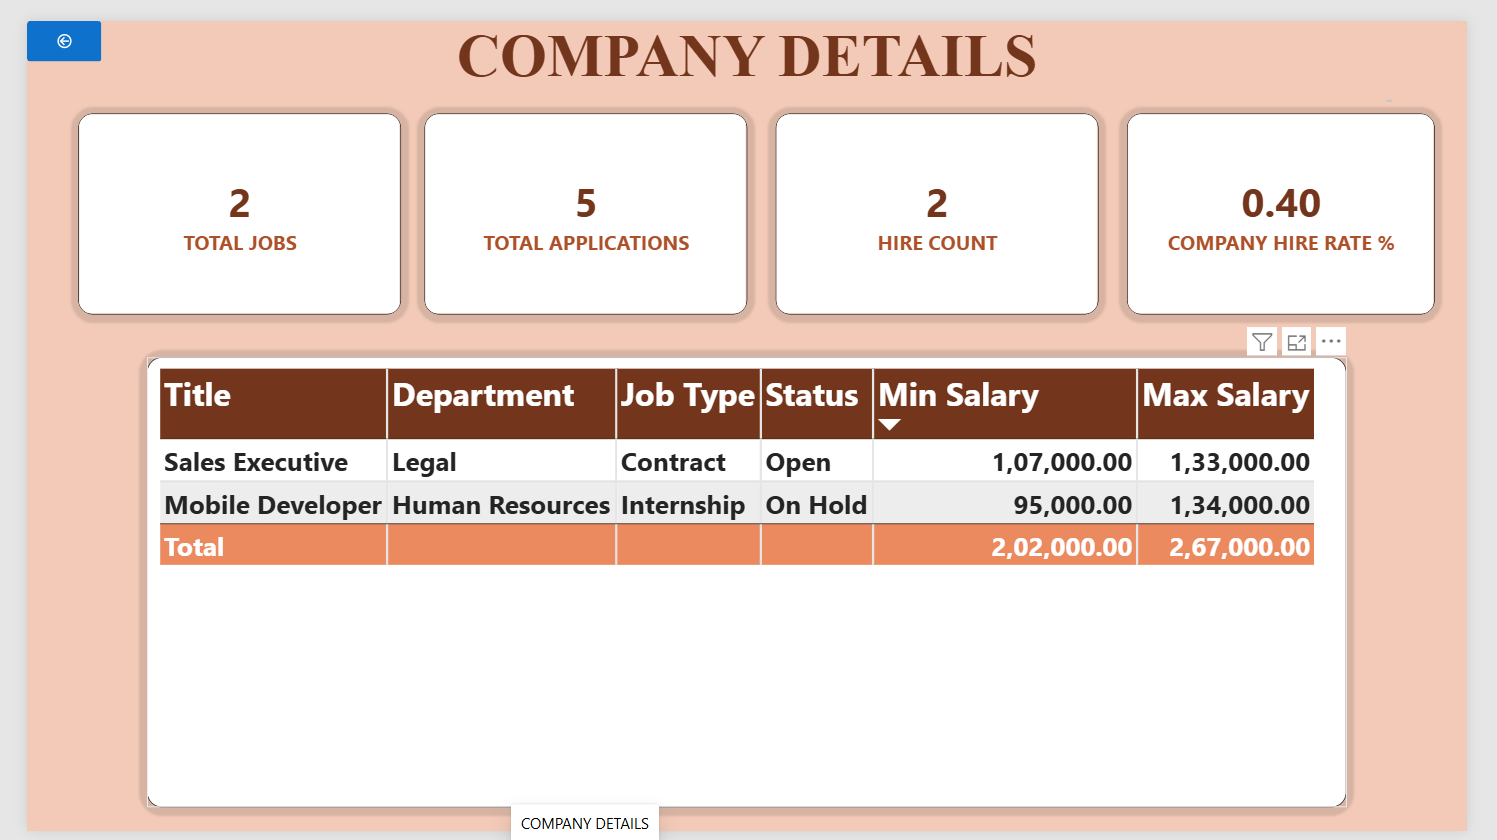

What the dashboard file says about the page in this screenshot:
{"tool":"powerbi","page":{"name":"COMPANY DETAILS","canvas":[1920,1080],"ordinal":2},"visuals":[{"type":"actionButton","box":[0,0,99.4,54.1],"z":0},{"type":"cardVisual","fields":{"Data":["Applications.TOTAL JOBS"]},"box":[68,124,430,268],"z":1000},{"type":"cardVisual","fields":{"Data":["Applications.COMPANY HIRE RATE %"]},"box":[1466,124,410,268],"z":2000},{"type":"cardVisual","fields":{"Data":["Applications.HIRE COUNT"]},"box":[998,124,430,268],"z":3000},{"type":"cardVisual","fields":{"Data":["Applications.TOTAL APPLICATIONS"]},"box":[530,124,430,268],"z":4000},{"type":"tableEx","fields":{"Values":["Jobs.Title","Jobs.Department","Jobs.JobType","Jobs.Status","Sum(Jobs.SalaryMin)","Sum(Jobs.SalaryMax)"]},"box":[160.5,448.3,1599.4,600],"z":5000},{"type":"textbox","title":"COMPANY DETAILS","box":[100,0,1720,108],"z":6000}]}

Visuals, with their boxes on the page's 1920x1080 design canvas (x1, y1, x2, y2). These are canvas units, not pixel positions in the 1497x840 screenshot, which may show the page scaled, cropped or inside an application window:
actionButton: crop(0, 0, 99, 54)
cardVisual - Applications.TOTAL JOBS: crop(68, 124, 498, 392)
cardVisual - Applications.COMPANY HIRE RATE %: crop(1466, 124, 1876, 392)
cardVisual - Applications.HIRE COUNT: crop(998, 124, 1428, 392)
cardVisual - Applications.TOTAL APPLICATIONS: crop(530, 124, 960, 392)
tableEx - Jobs.Title x Jobs.Department: crop(160, 448, 1760, 1048)
"COMPANY DETAILS" textbox: crop(100, 0, 1820, 108)
